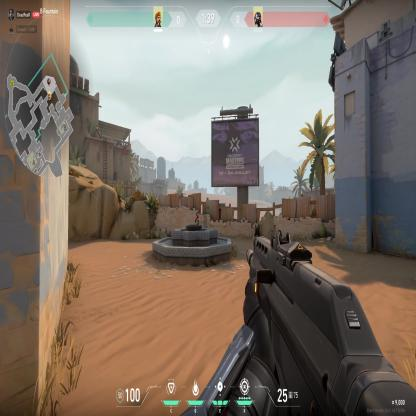enemy: (194, 210, 200, 224)
